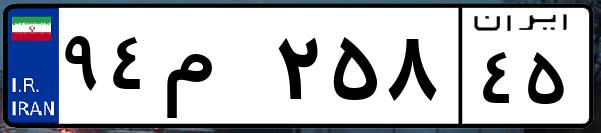2: (270, 28, 330, 110)
4: (475, 38, 525, 113), (110, 28, 158, 98)
5: (330, 28, 385, 110), (525, 38, 570, 115)
8: (385, 28, 445, 110)
9: (57, 26, 110, 100)
م: (158, 20, 270, 120)
